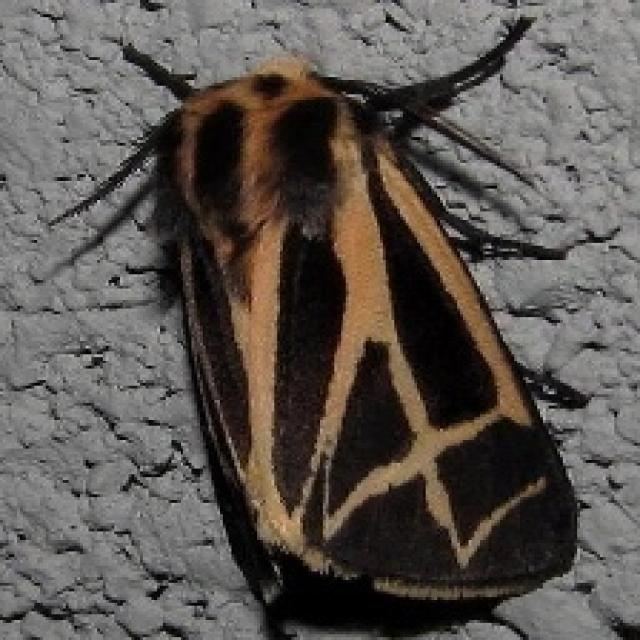butterfly: (40, 12, 586, 617)
